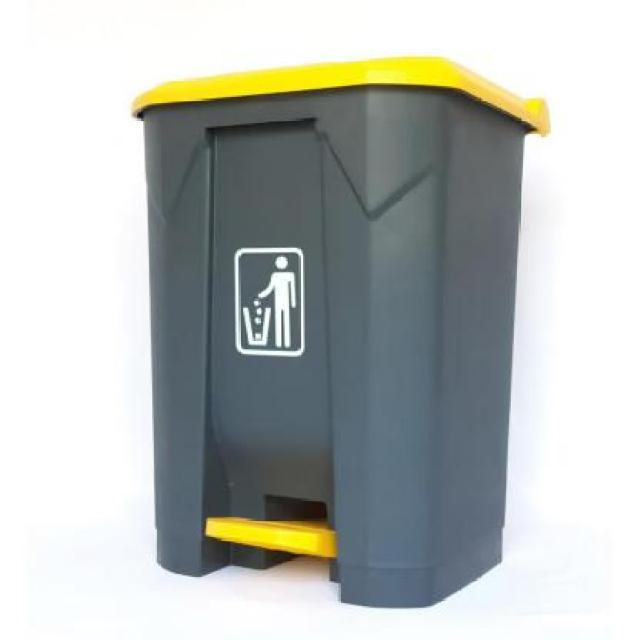garbage container: (109, 54, 572, 616)
